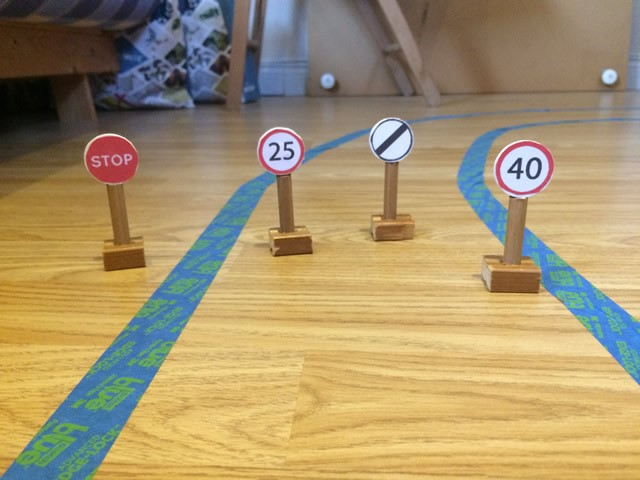Full Speed: (371, 118, 414, 161)
Speed Limit 25: (258, 128, 307, 176)
Speed Limit 40: (493, 139, 558, 196)
Stop Sign: (83, 136, 140, 184)
